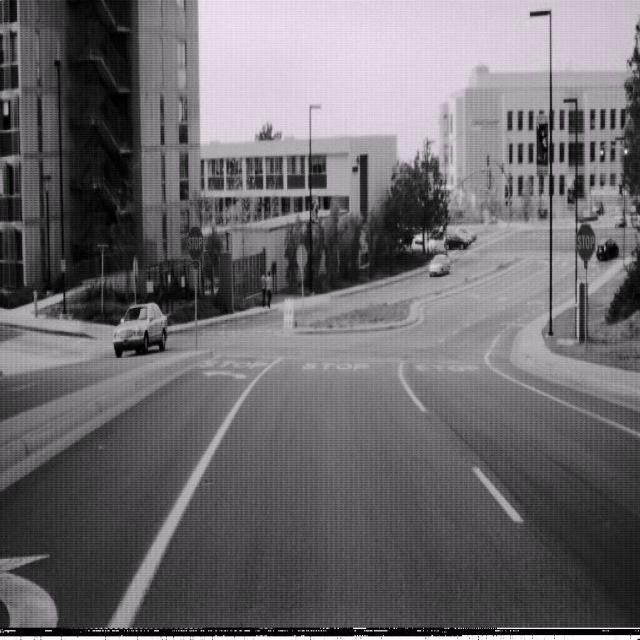stop: (575, 222, 596, 262), (186, 224, 203, 262)
